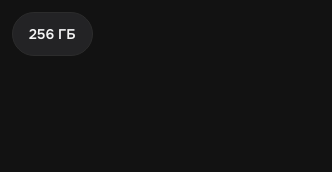
Toggle › перемикає aria-pressed і повідомляє новий стан
The width and height of the screenshot is (332, 172).
Click the button "256 ГБ" at (52,34), box [12,12,93,56]
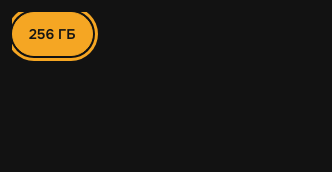
Expected: the button "256 ГБ" is pressed
Expected: the button "256 ГБ" has attribute data-state="on"
Click the button "256 ГБ" at (52,34), box [12,12,93,56]
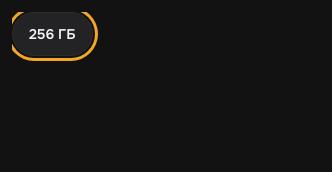
Expected: the button "256 ГБ" is not pressed, [12,12,93,56]
